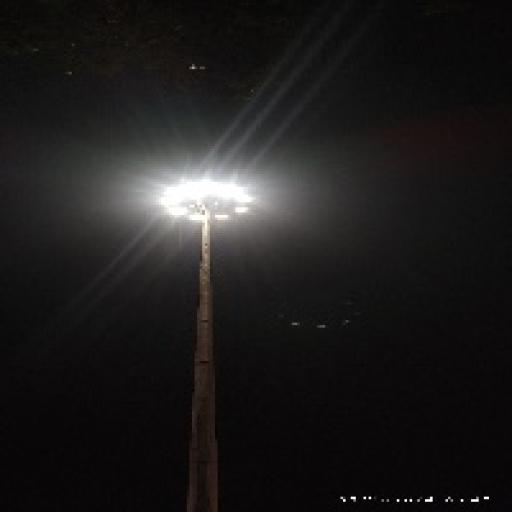Working: (154, 169, 260, 233)
